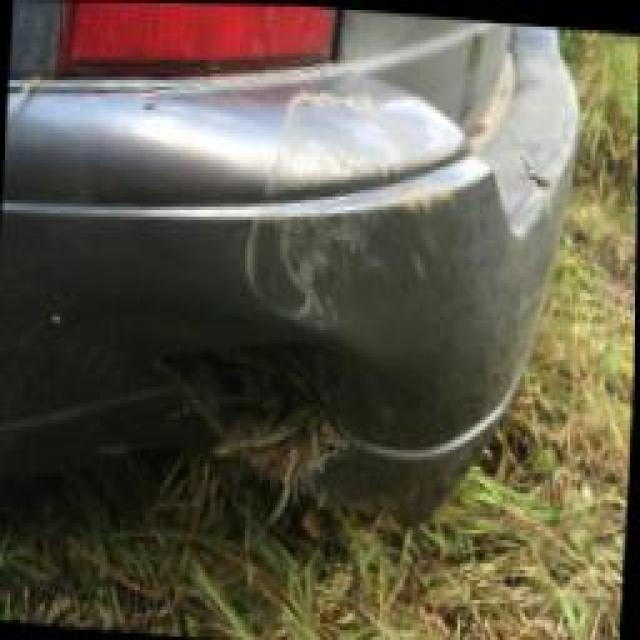Bumper: (178, 57, 507, 378)
